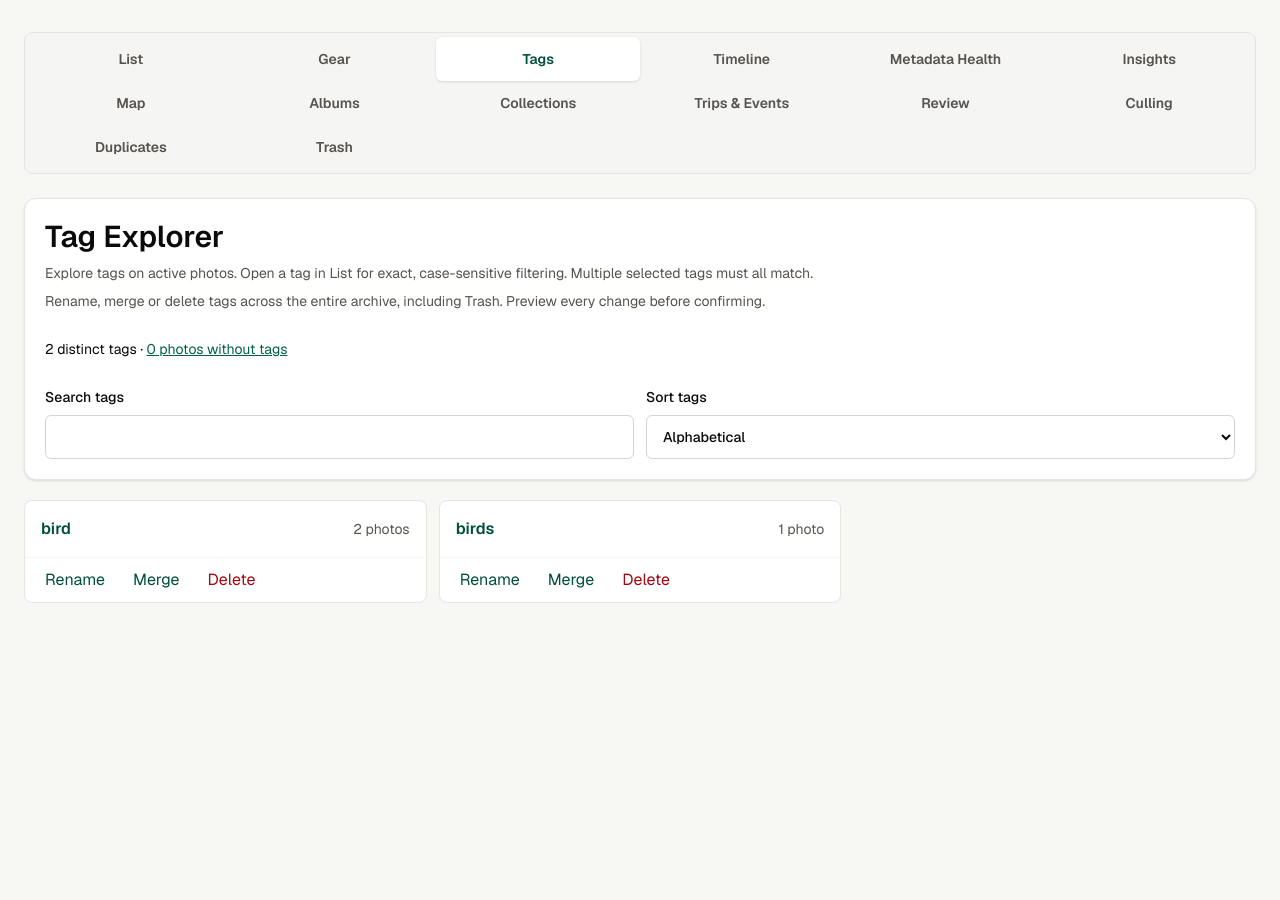
Test: modal traps keyboard focus, escapes and restores focus
This screenshot has width=1280, height=900.
Click the button with aria-label "Rename tag bird".
click(75, 580)  # box 33,558 -> 117,602
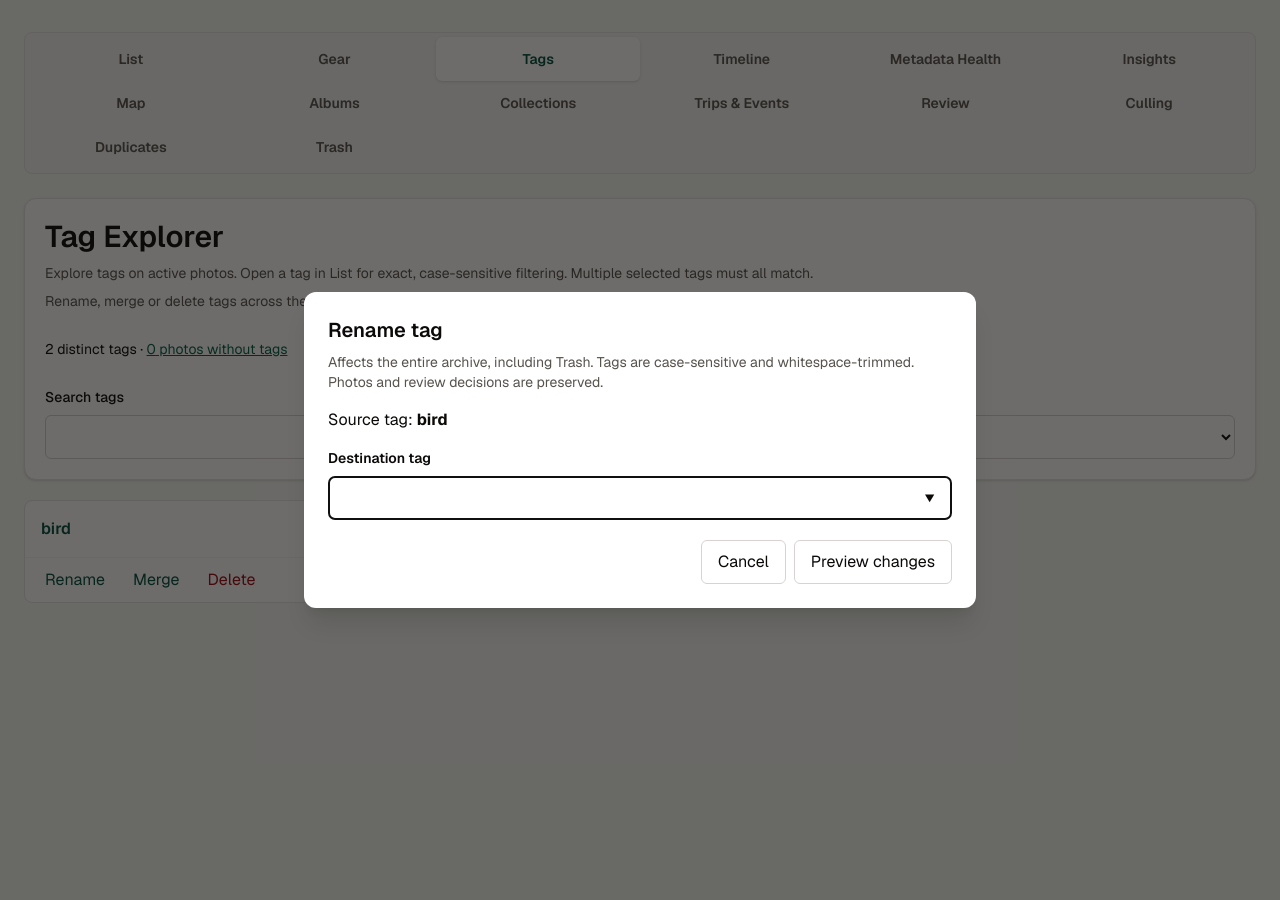
Press Shift+Tab
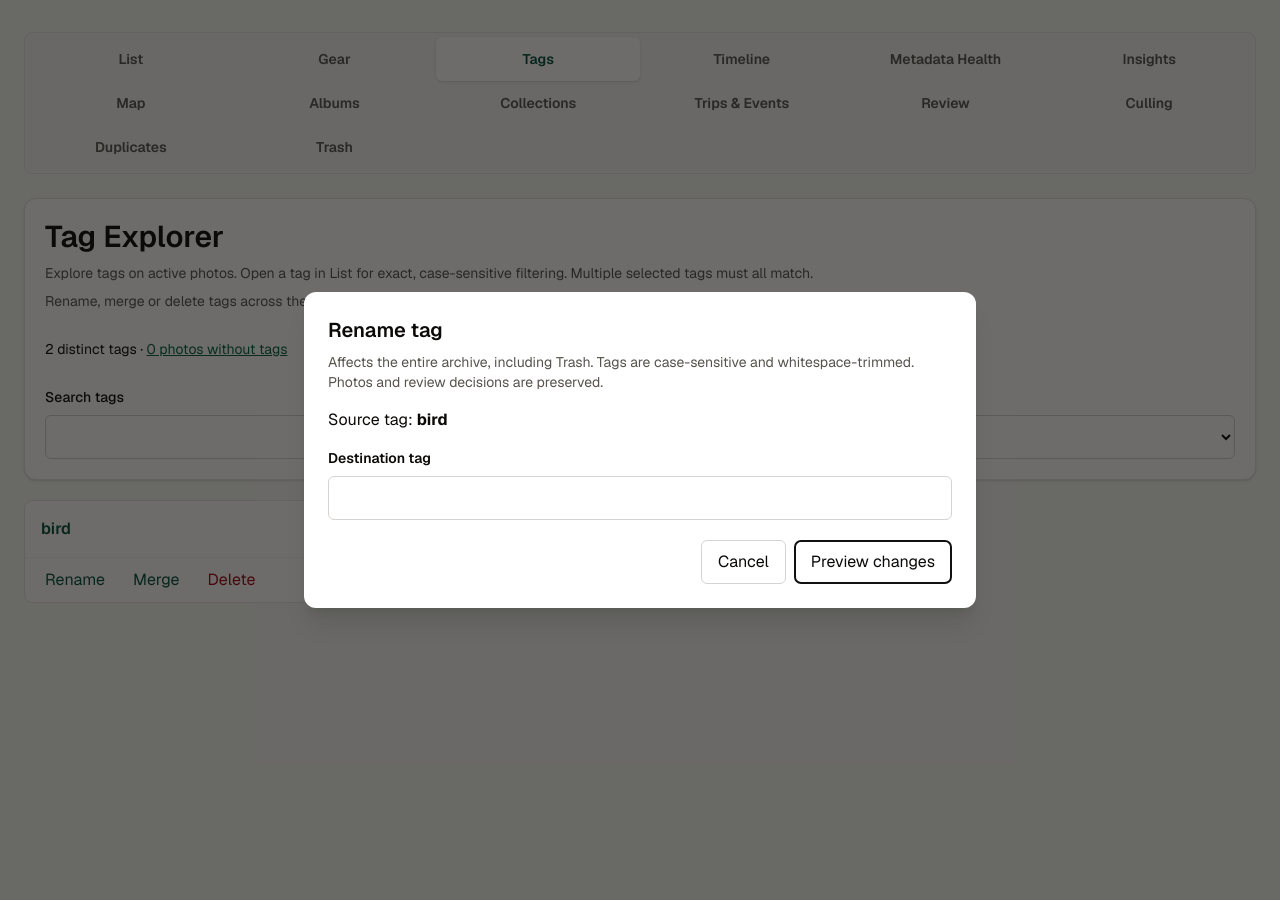
Press Tab
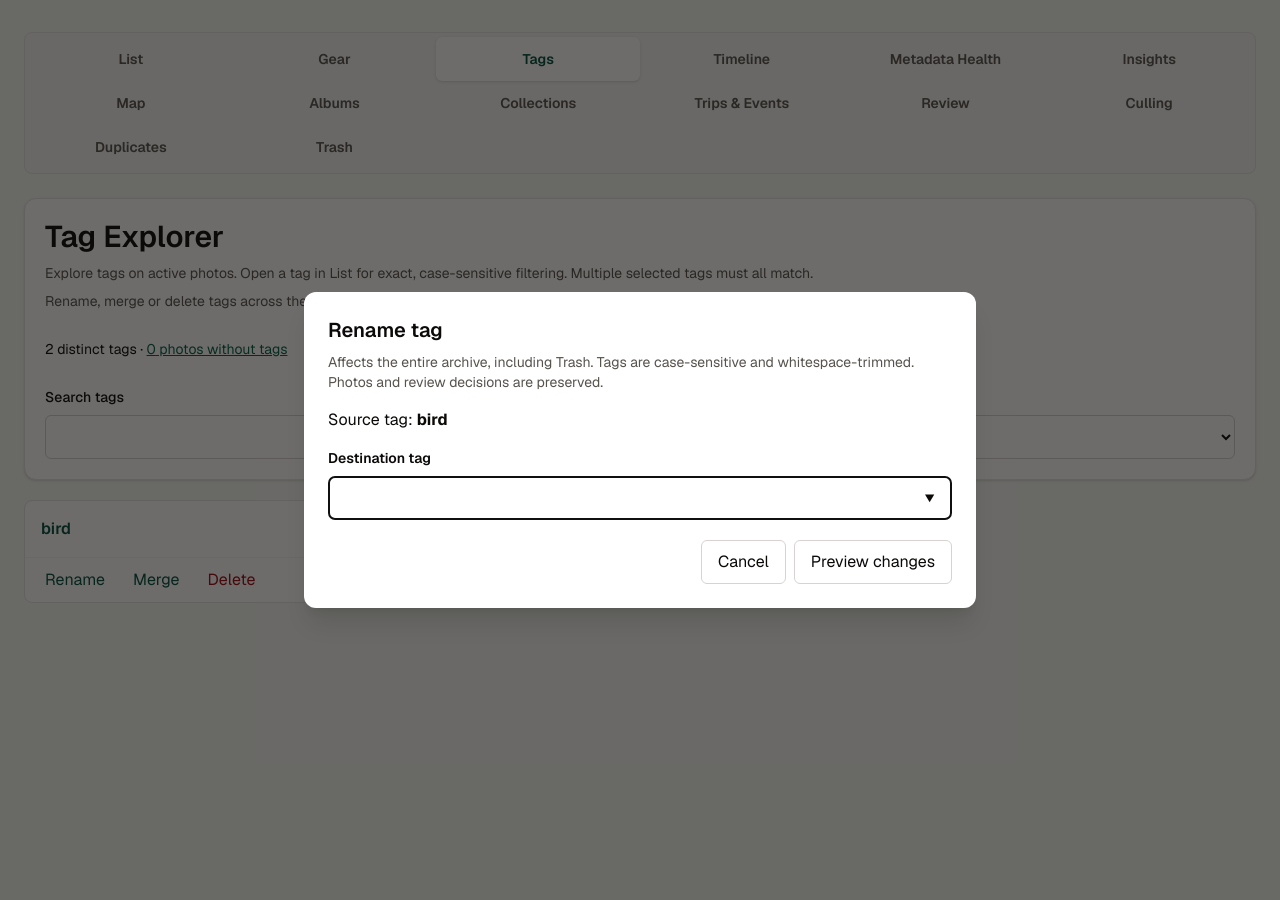
Press Escape
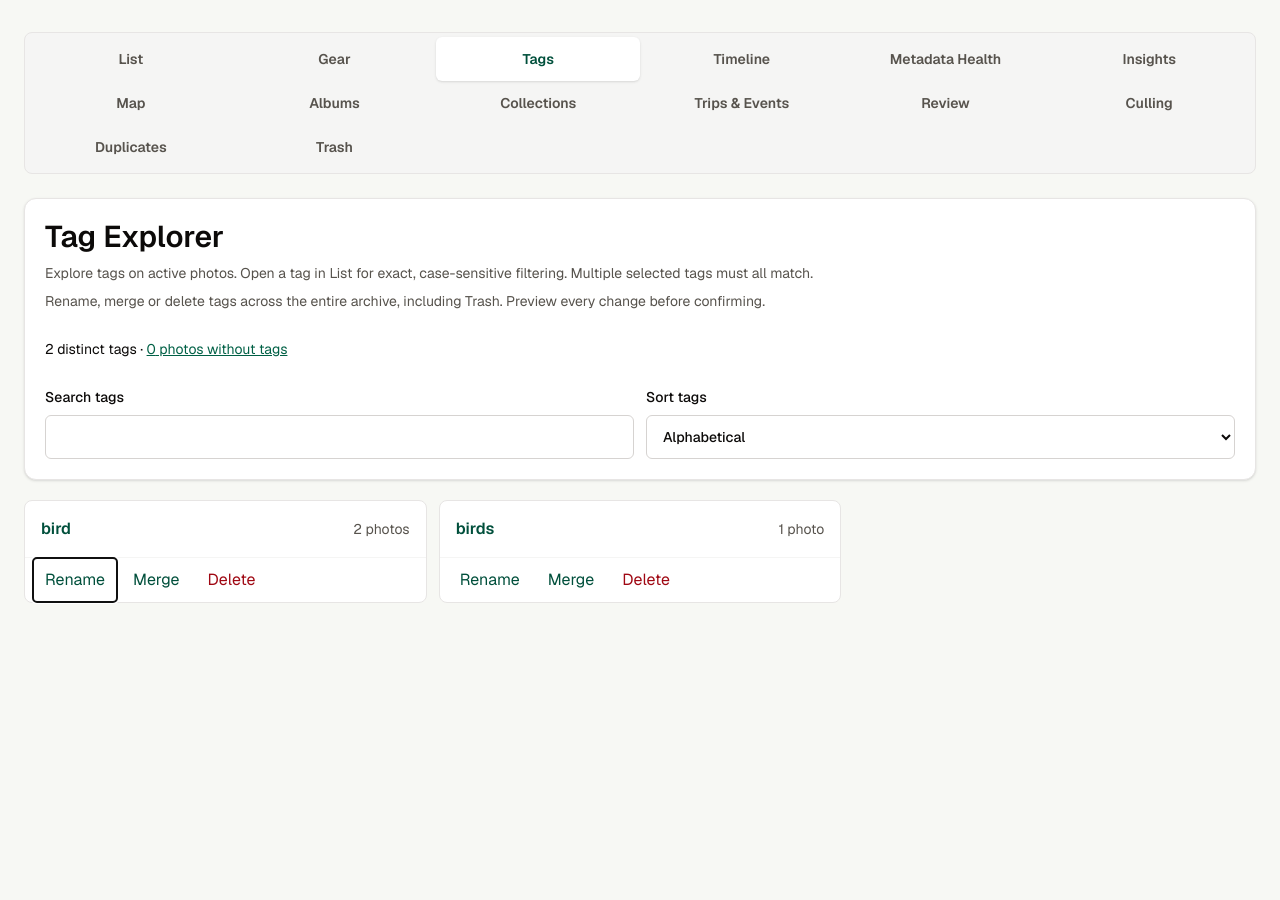
Expected: the dialog is gone
